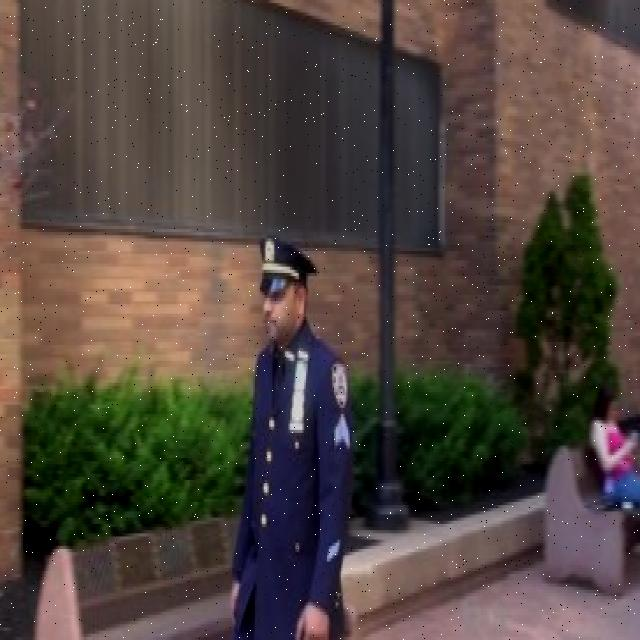police: (200, 216, 357, 640)
